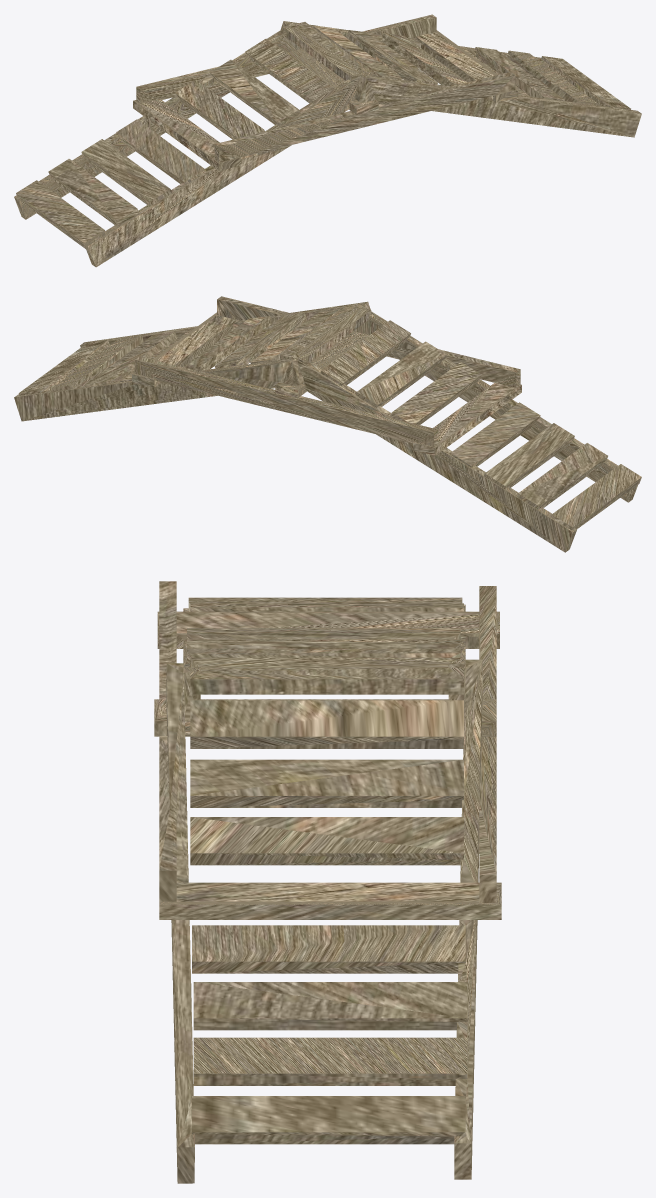
Rendered from bridge4.gltf.
3 views of the same model, one above another, from view 1: azimuth 30°, elevation 25°; view 2: azimuth 150°, elevation 25°; view 3: azimuth 270°, elevation 25° (orthographic). The views are drawn at different scales.
Visible parts, largest first — view 1: node_id3; view 2: node_id3; view 3: node_id3.
Part boxes in pixels (left/top/right/bottom): node_id3: left=14, top=14, right=641, bottom=267; node_id3: left=14, top=296, right=641, bottom=552; node_id3: left=154, top=581, right=501, bottom=1183.
Bounding box in the file's own units: 4.97 × 1.09 × 1.34.
1 material, 1 textured.
